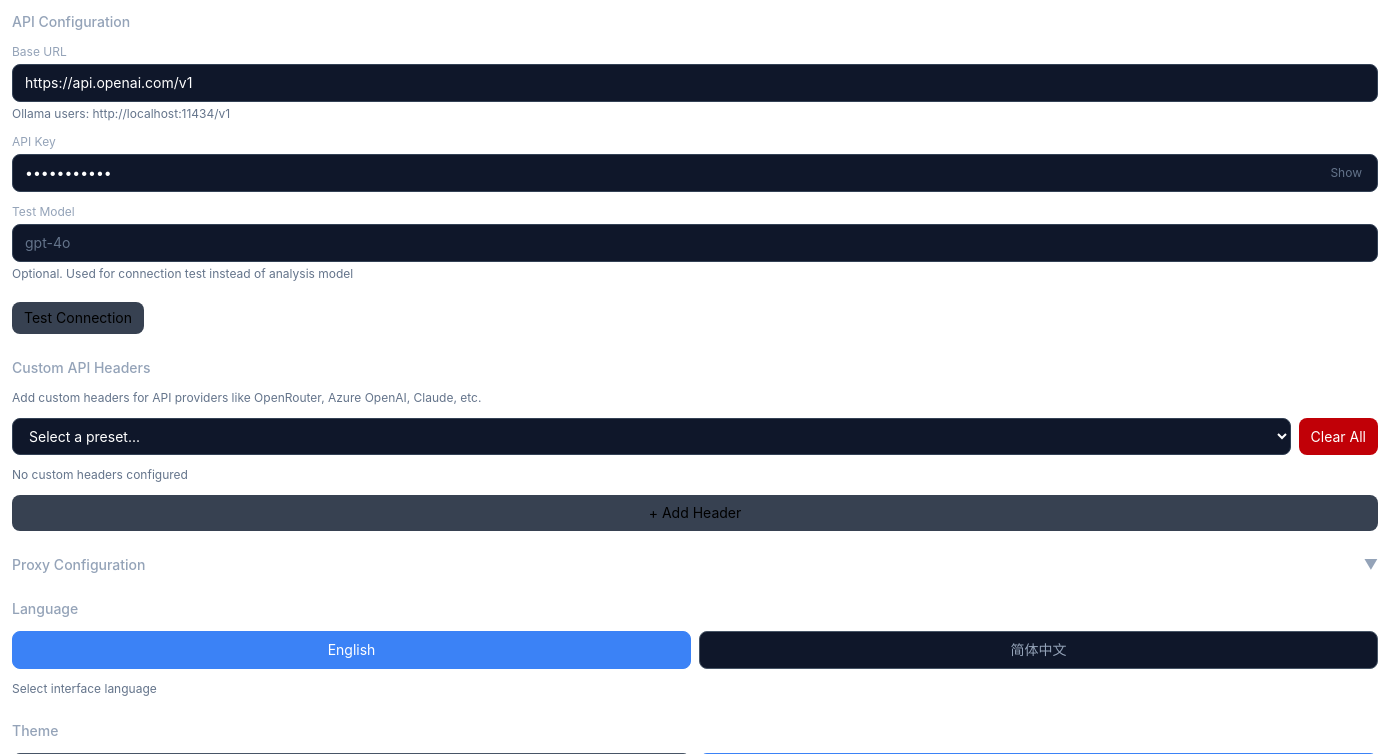
Test: BasicSettings › rendering › shows API key in plain text when show button clicked
Click the button "Show": {"x": 1346, "y": 173} [1322, 161, 1370, 185]
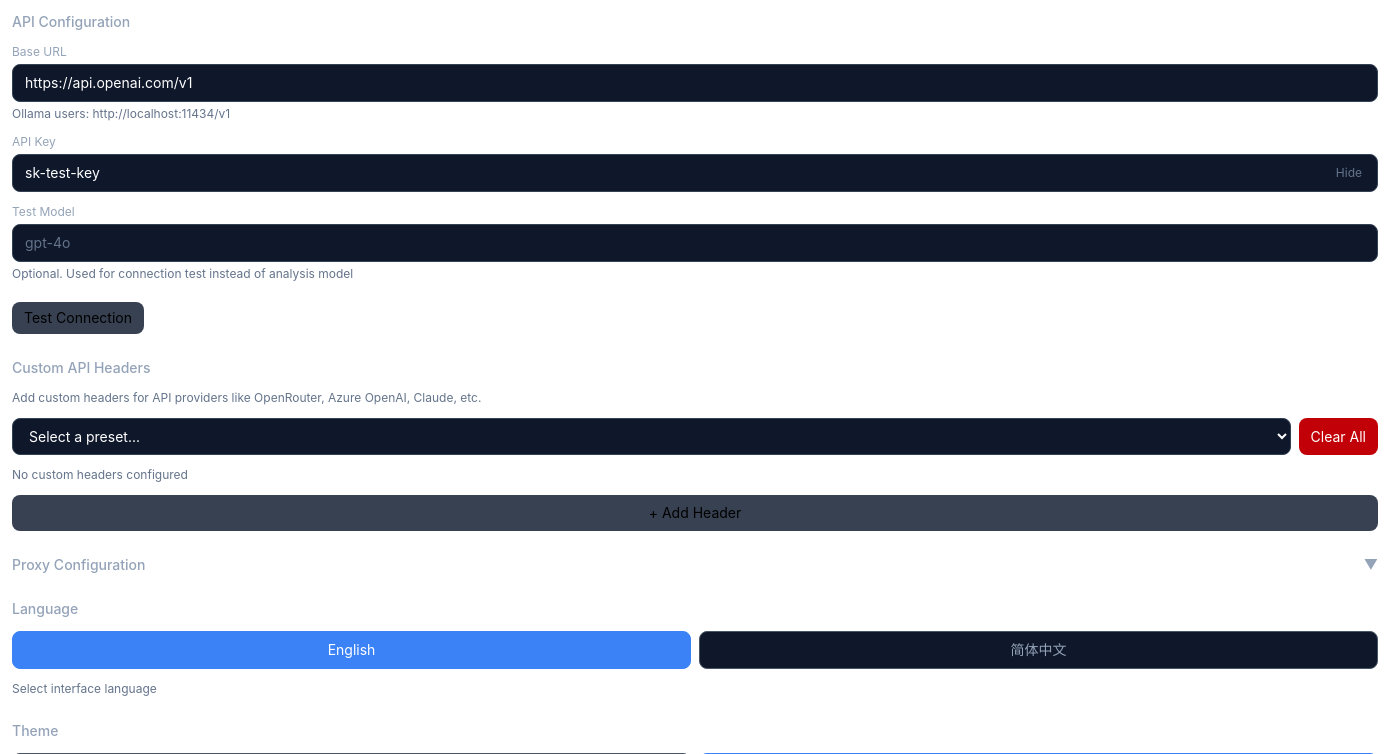
Result: the field below "API Key" shows its text at [12, 154, 1378, 192]
